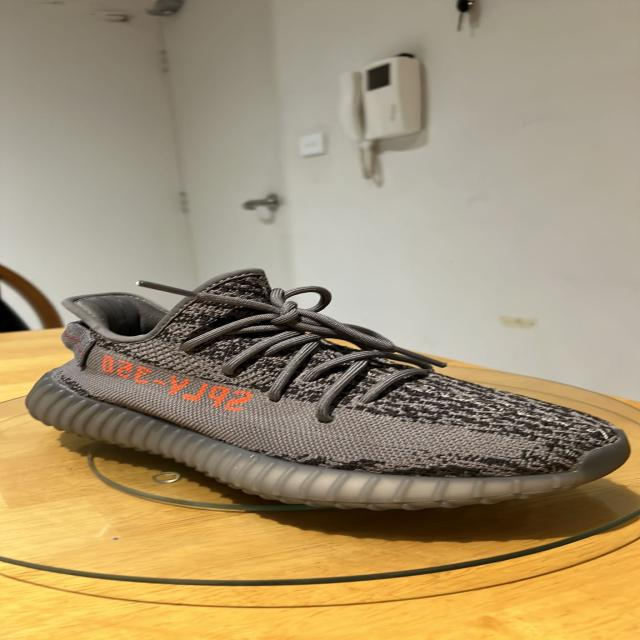shoe: (24, 266, 630, 512)
